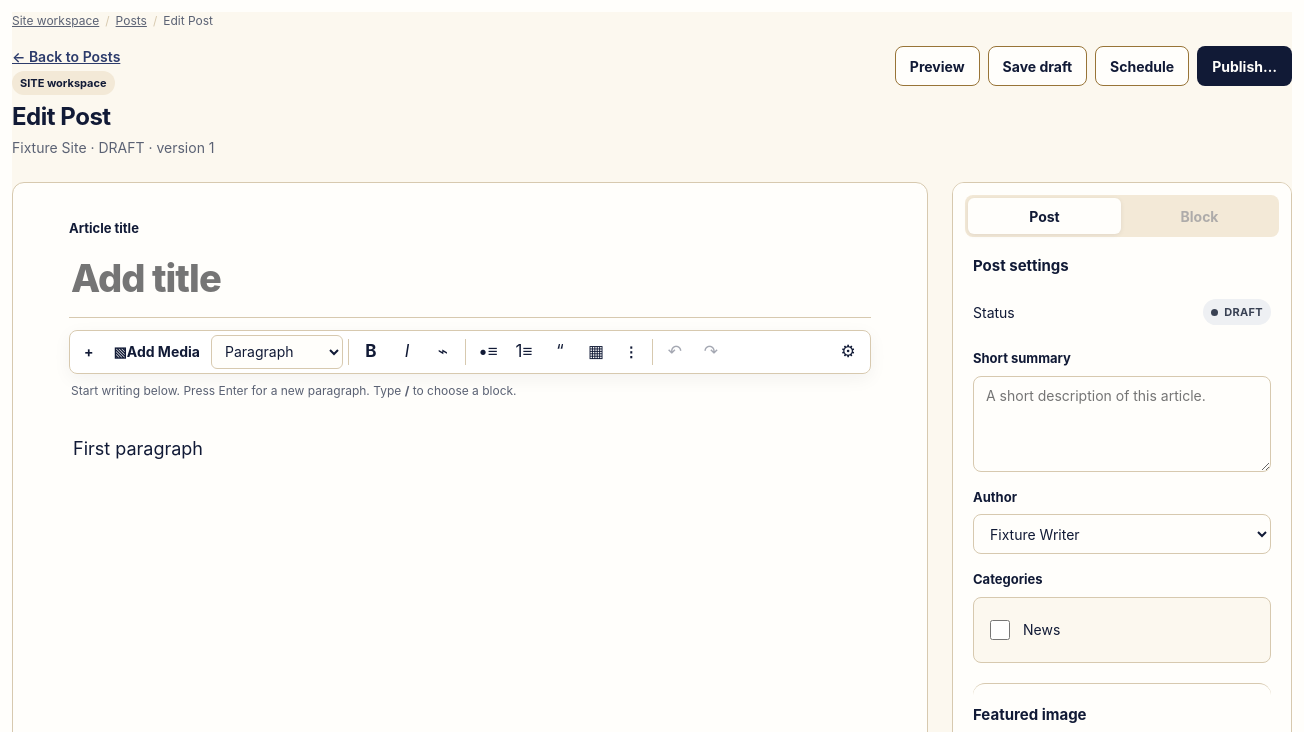
Test: Preview stays in Admin and explains that a truly blank title is required
Check: the element named "Editor toolbar" is shown, box [69,330,871,374]
Click the button "Preview" at (937, 66), box [895,46,980,86]
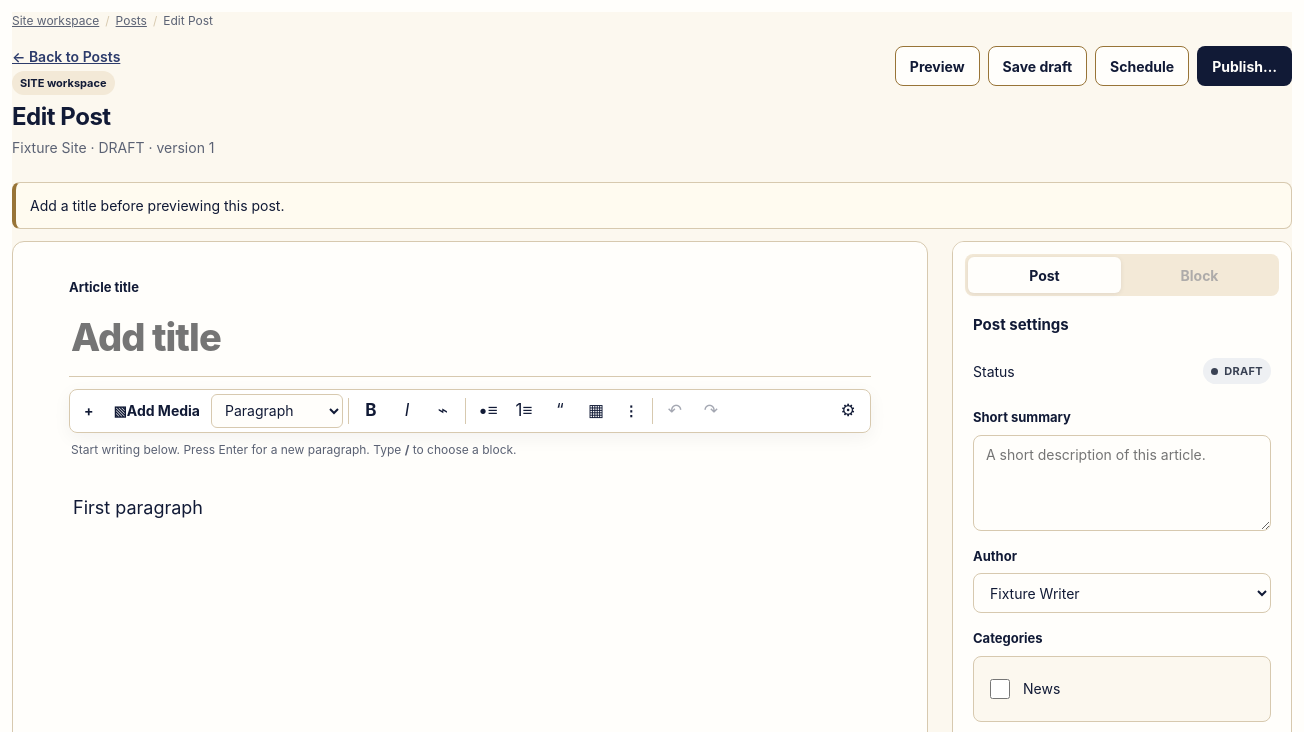
Check: the text "Add a title before previewing this post." is shown, box [30,197,284,214]
